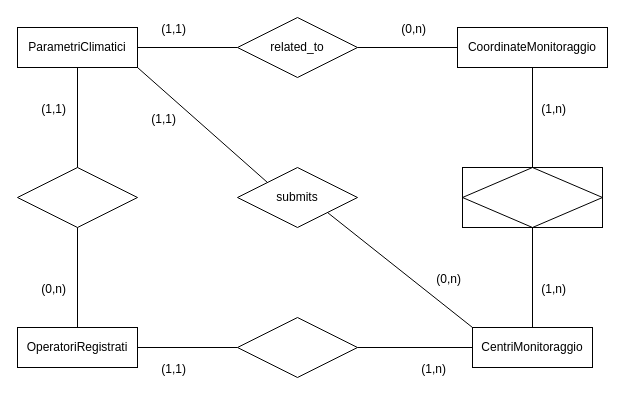
This 625x395 diagram has some shape labels left out. The shapes that lost their labels are listed below. From the top down, each one's box as (x1, y1, x2, y2) in pixels, then its label:
(16, 166, 138, 228): provides
(462, 166, 602, 228): Area_Center
(236, 316, 358, 378): works_in
